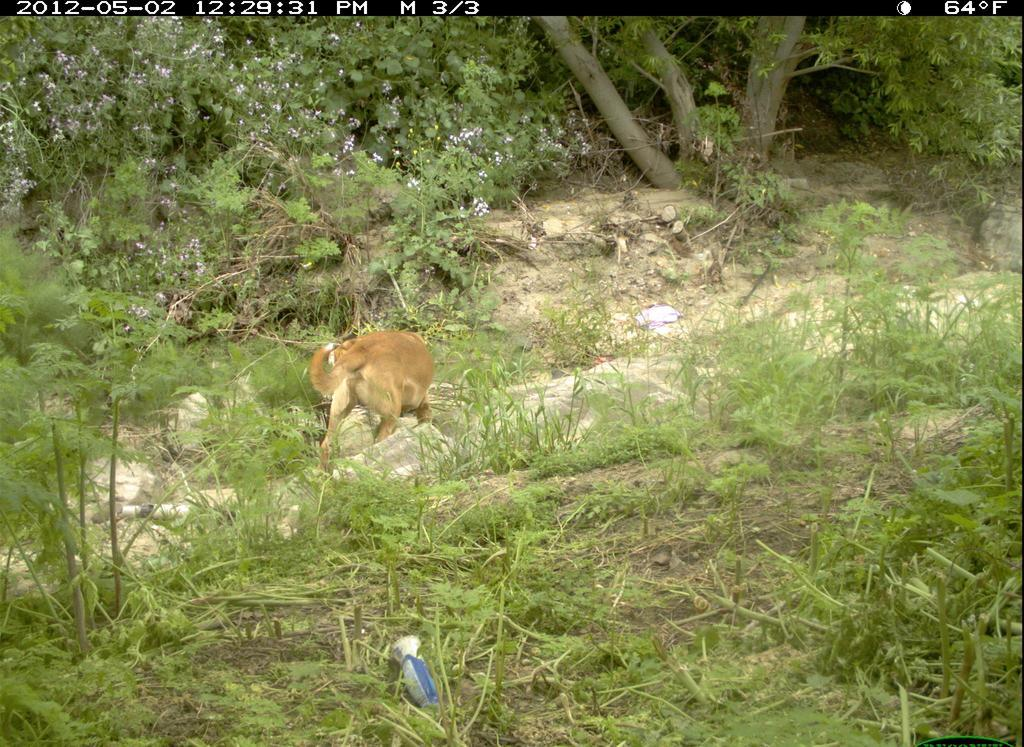dog: (295, 319, 449, 459)
